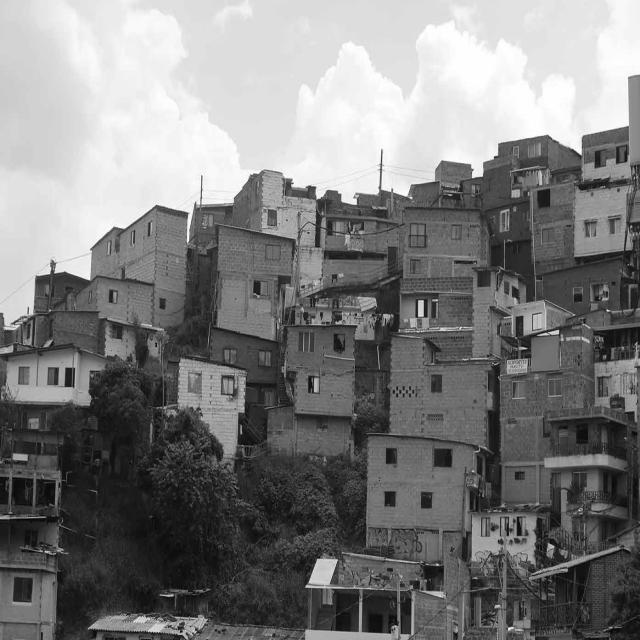Fachada: (500, 321, 594, 502), (483, 135, 578, 300), (365, 434, 485, 560), (399, 203, 489, 357), (76, 205, 186, 327), (390, 337, 499, 452), (545, 406, 633, 541), (233, 170, 325, 296), (268, 325, 355, 457), (214, 225, 293, 339), (3, 344, 107, 430), (316, 190, 399, 281), (574, 126, 630, 259), (210, 327, 278, 435), (178, 357, 247, 458), (17, 272, 97, 350), (0, 551, 56, 639), (532, 181, 573, 297), (472, 267, 525, 355), (595, 325, 640, 418), (470, 509, 544, 564), (189, 203, 232, 248)
Poste: (196, 219, 201, 275), (378, 149, 383, 205), (200, 175, 203, 215)
